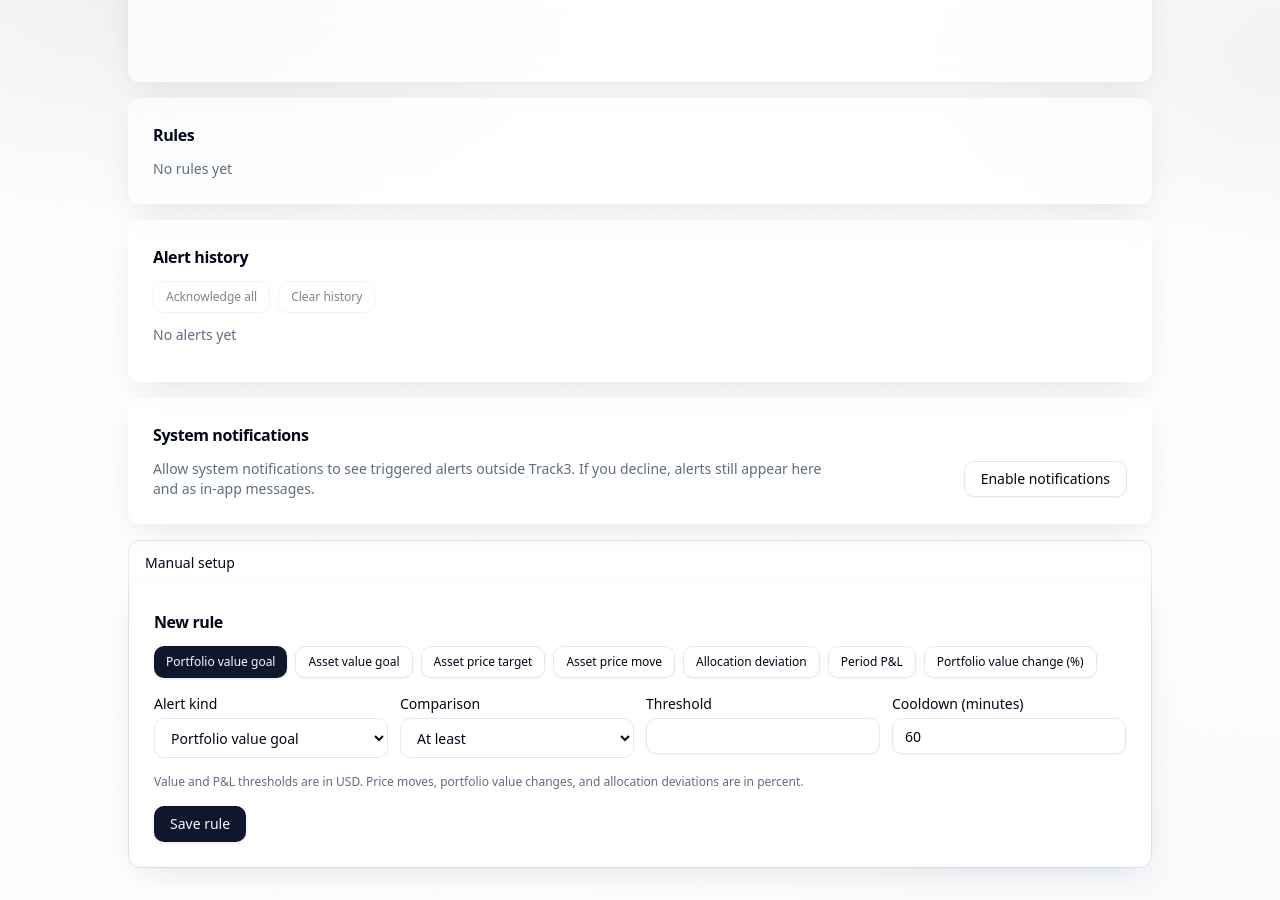
it: keeps success and validation feedback in separate live regions
The image size is (1280, 900).
(page scrolled)
Expected: the text "No rules yet" is shown, [153,159,232,178]
Click the button "Save rule": click(200, 824) [154,806,246,842]
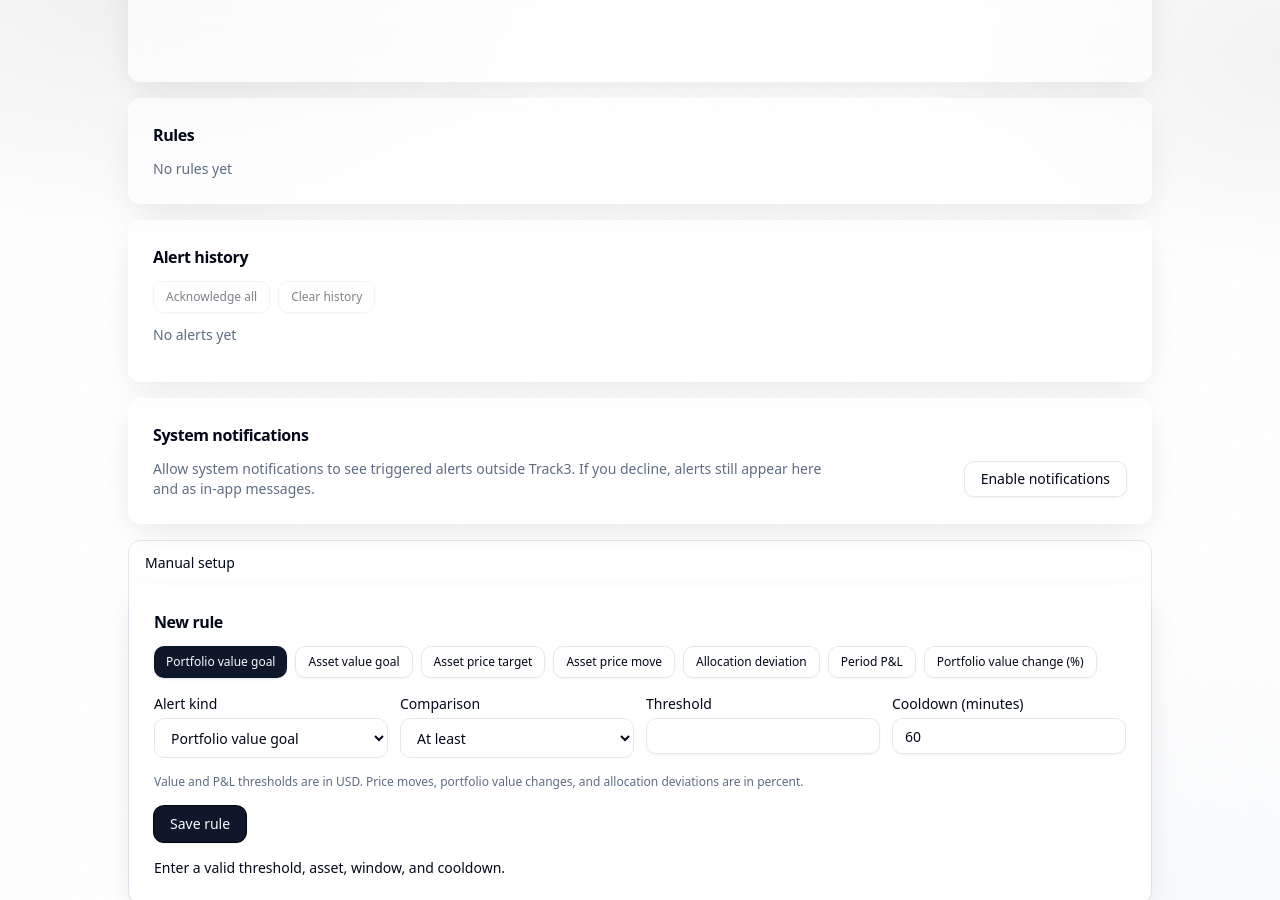
Expected: the message shows "Enter a valid threshold", [154,858,505,877]
In the number field labelled "Threshold": (763, 736) [646,718,880,754], type "1000"
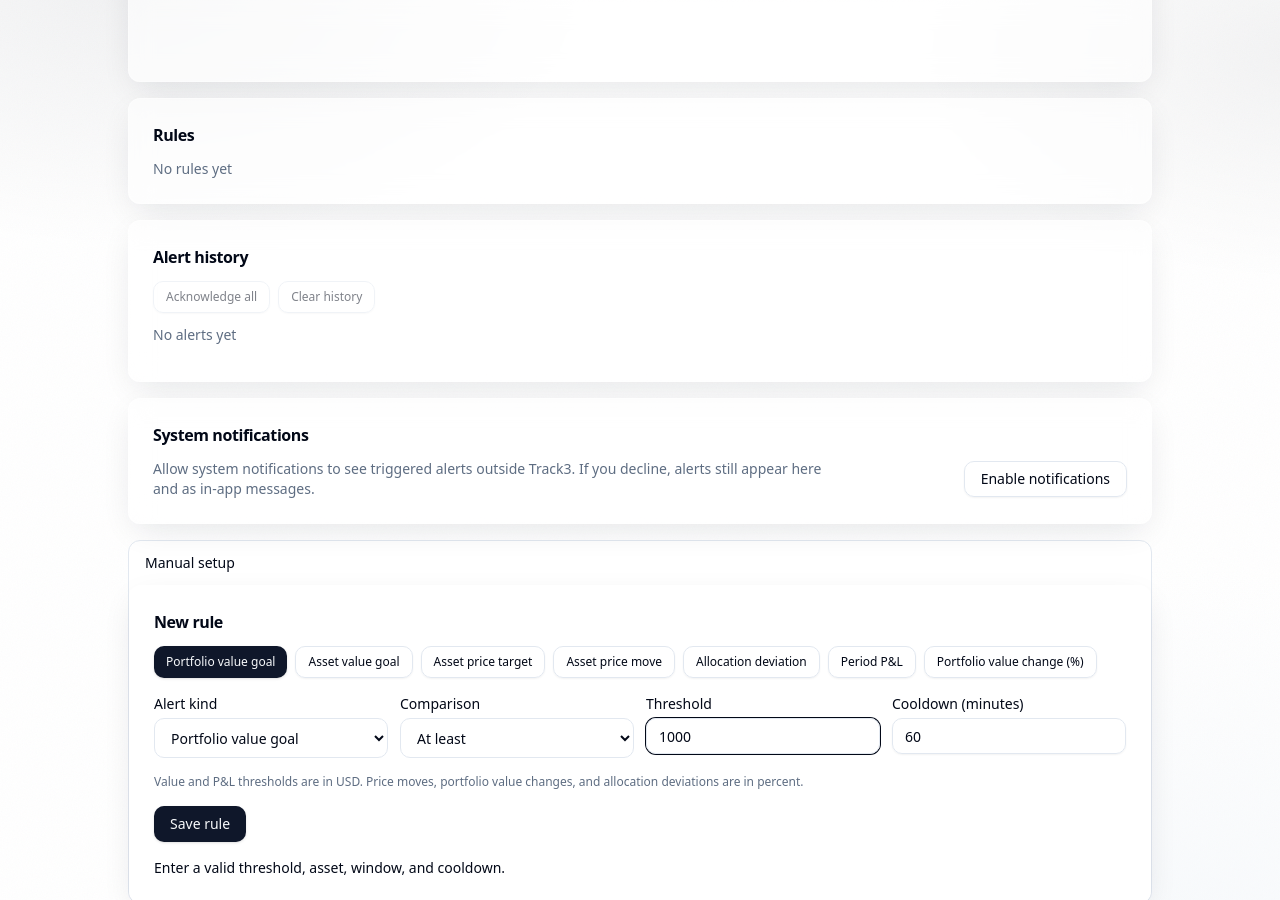
Click the button "Save rule": click(200, 824) [154,806,246,842]
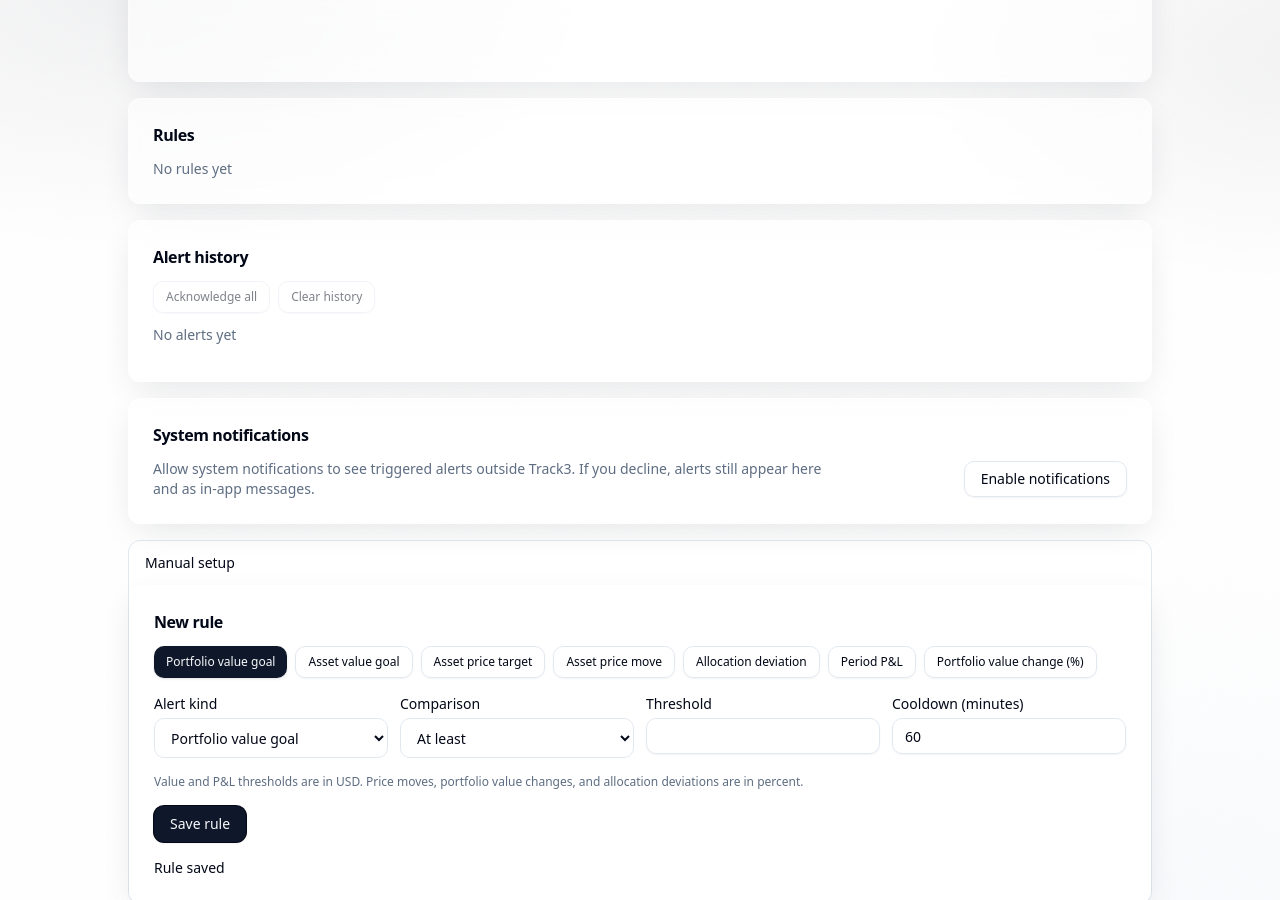
Expected: the message shows "saved", [154,858,225,877]
